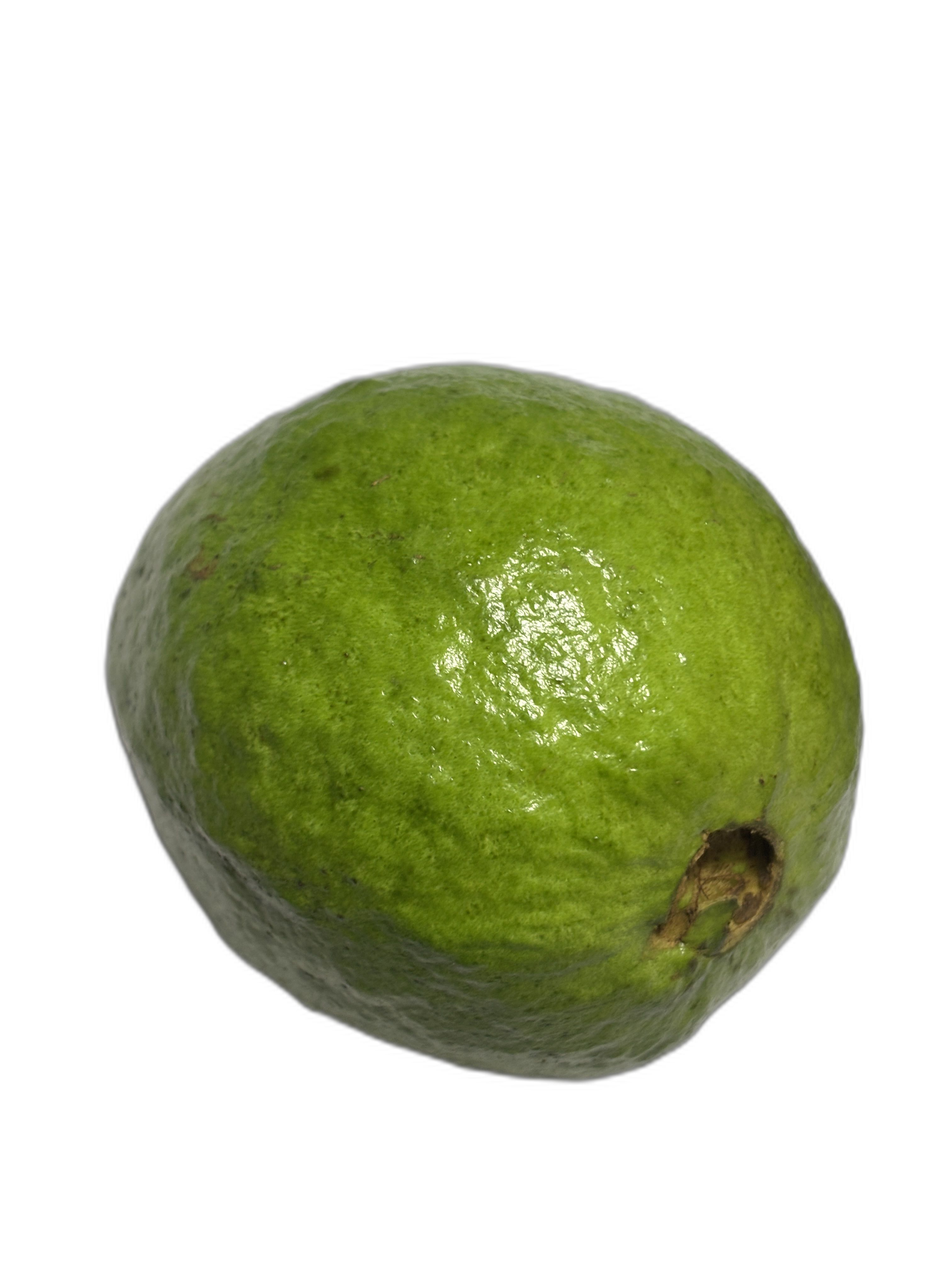guava: (50, 189, 852, 1227)
